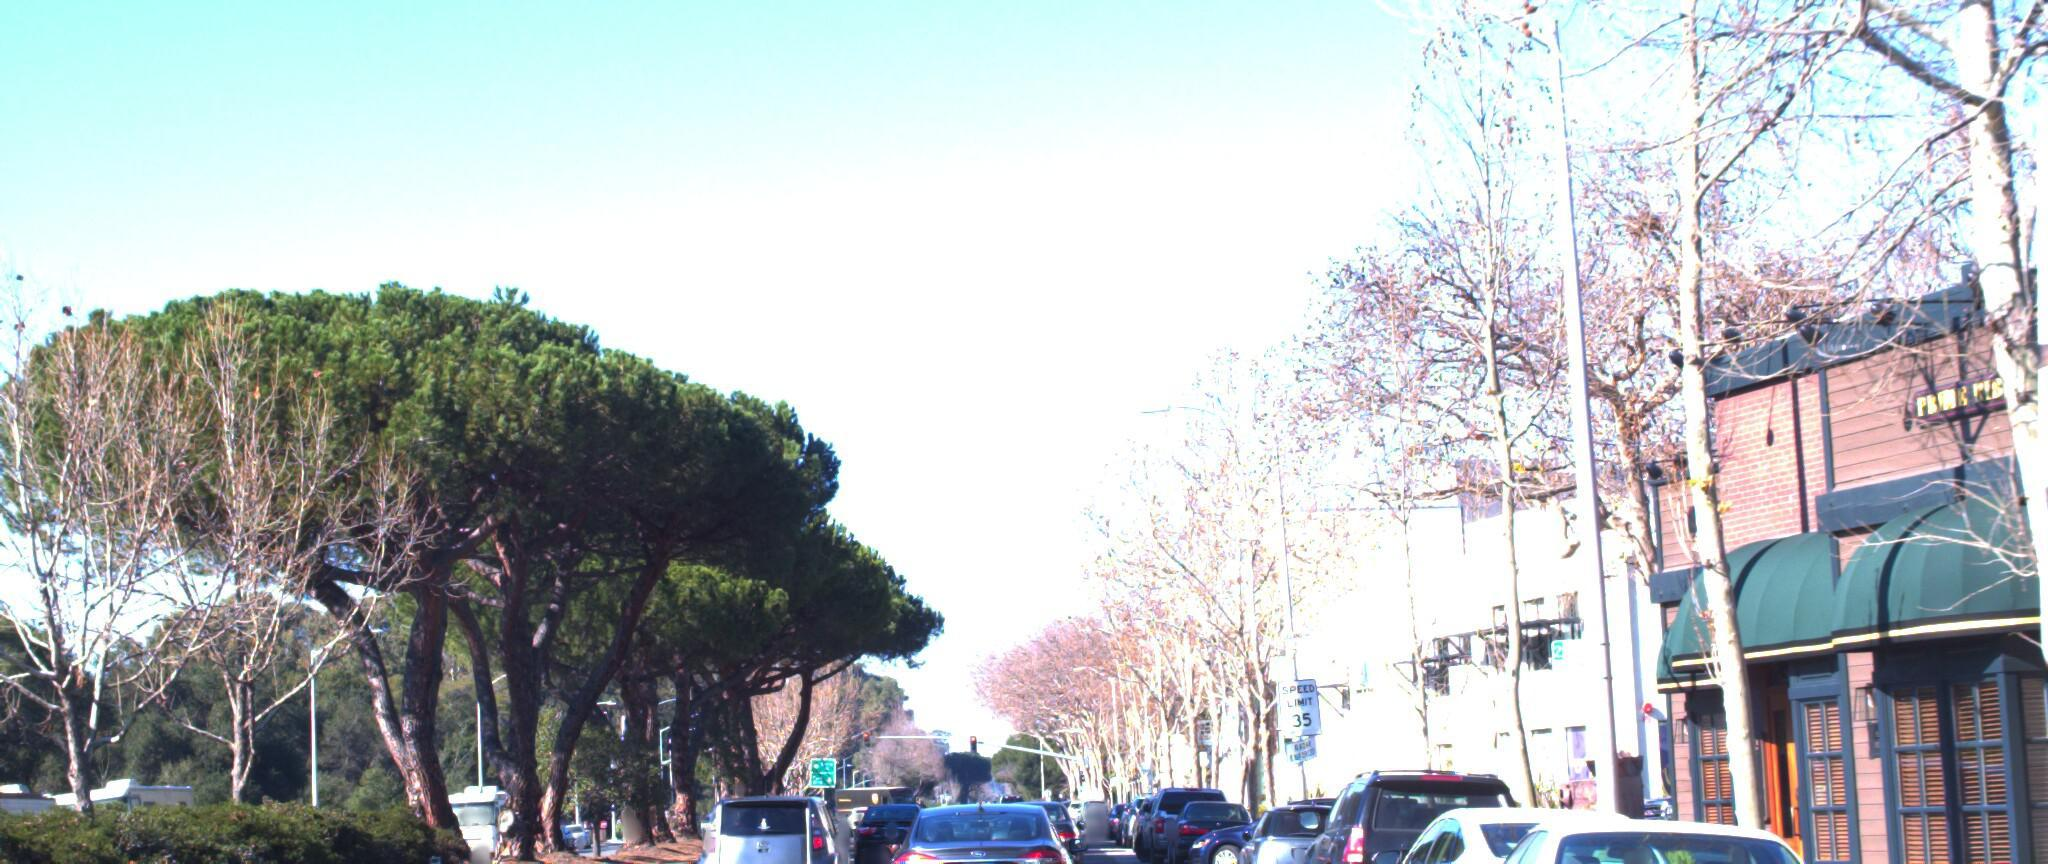car: (1395, 794, 1947, 864), (1276, 754, 1569, 864), (1337, 790, 1742, 864), (869, 787, 1079, 864), (694, 777, 859, 864), (1226, 796, 1378, 864), (839, 804, 930, 864)
other_vehicle: (0, 774, 86, 864)
